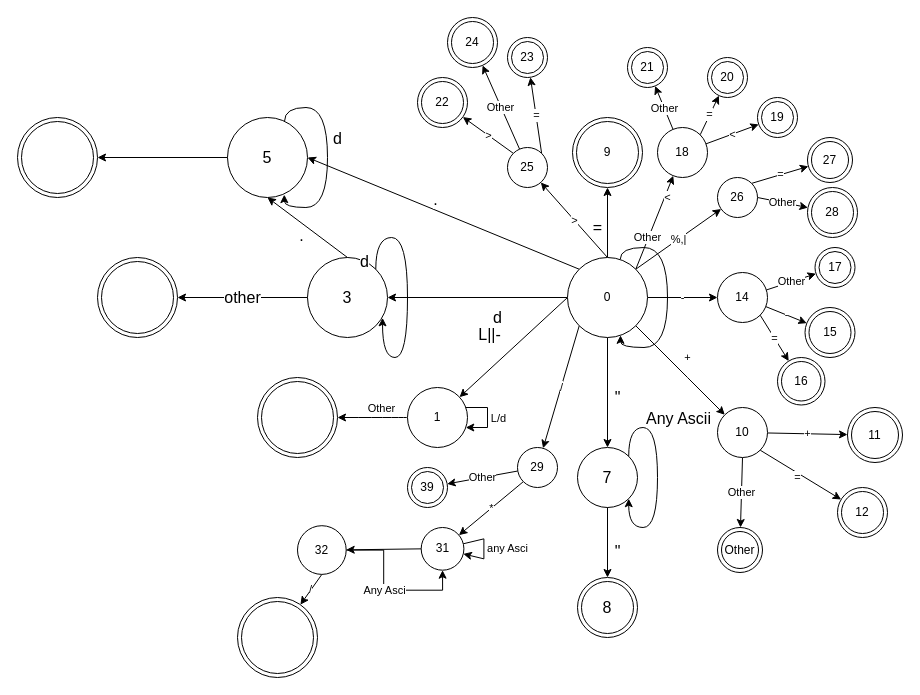
Image size: 920x695. Some labels were removed from this diagram. Each missing label, with the box of its shape:
2 Identifiers: (256, 376, 338, 458)
33 Comments: (236, 596, 318, 678)
4 intigers: (96, 256, 178, 338)
6 Float: (16, 116, 98, 198)
